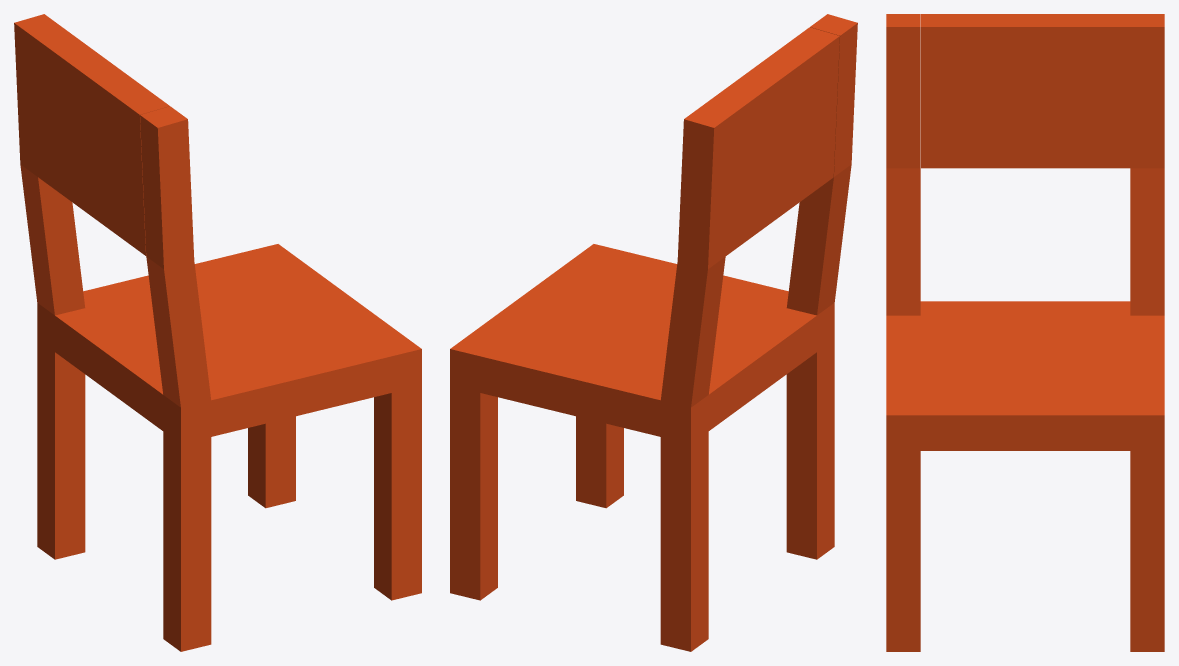
Rendered from bangku makan.fbx.
3 renders of one model, left to right at view 1: azimuth 30°, elevation 25°; view 2: azimuth 150°, elevation 25°; view 3: azimuth 270°, elevation 25°, orthographic. The views are drawn at different scales.
Parts seen in each view (by area): view 1: Cube.137; view 2: Cube.137; view 3: Cube.137.
Part boxes in pixels (x1,y1,x2,y2): Cube.137: (14,14,421,651); Cube.137: (450,14,857,651); Cube.137: (886,14,1164,651).
Bounding box in the file's own units: 73.56 × 141 × 69.32.
